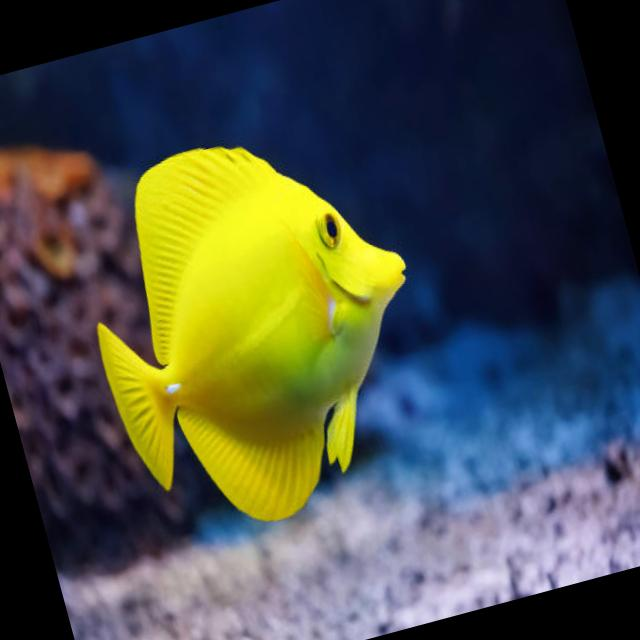TangFish: (46, 97, 461, 558)
